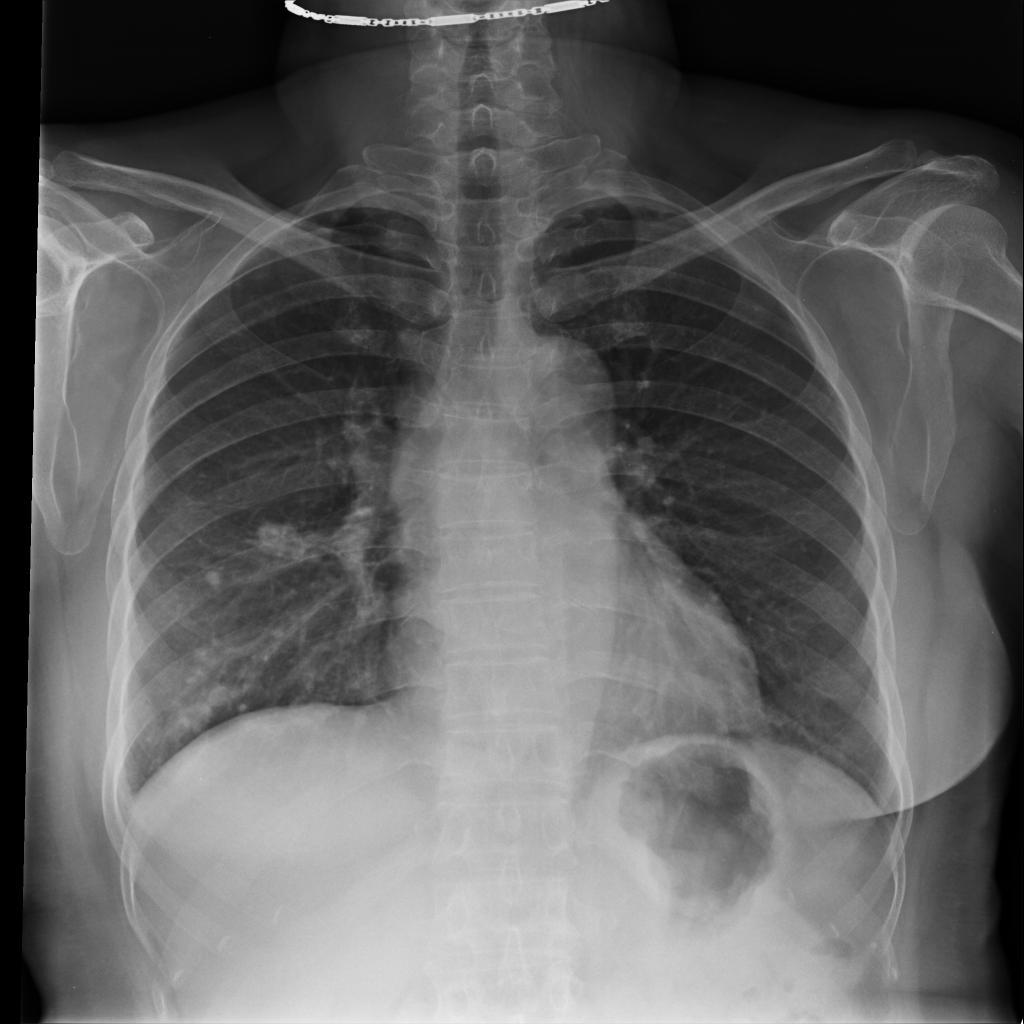Nodule: (206, 565, 221, 590)
